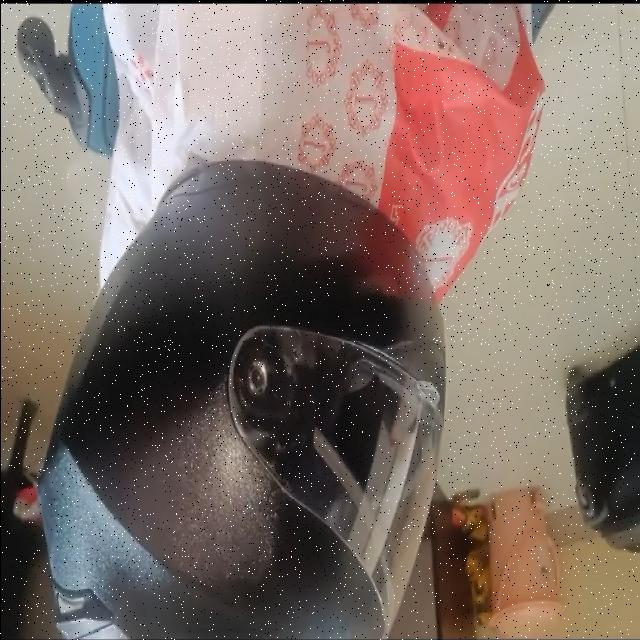Helmet: (38, 161, 444, 638)
